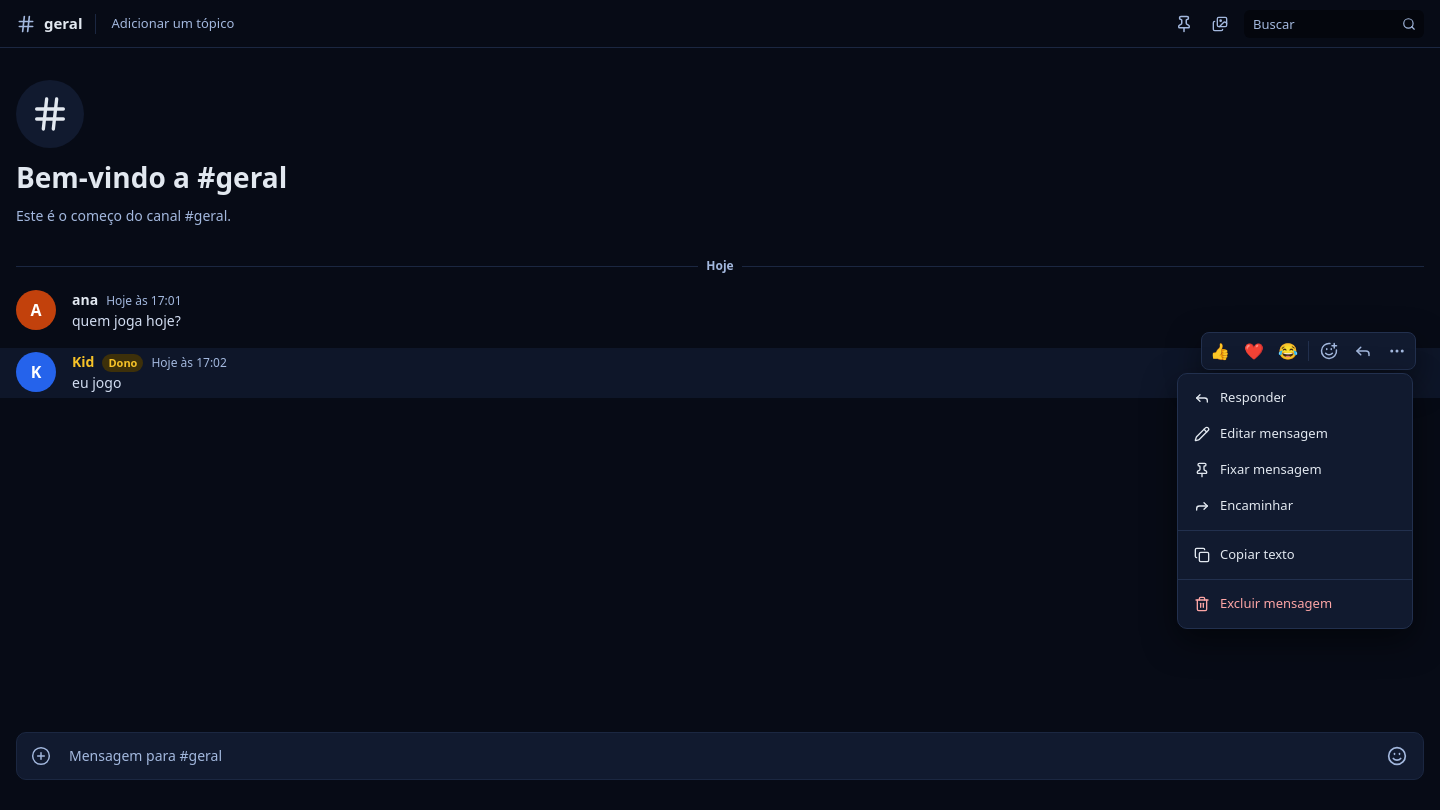
Test: as ações da mensagem › edita a própria no lugar, com Enter, e mostra (editada)
The width and height of the screenshot is (1440, 810).
Earlier steps of the test are not shown.
Click the menu item "Editar mensagem".
click(1261, 433)  # box [1194, 424, 1328, 442]
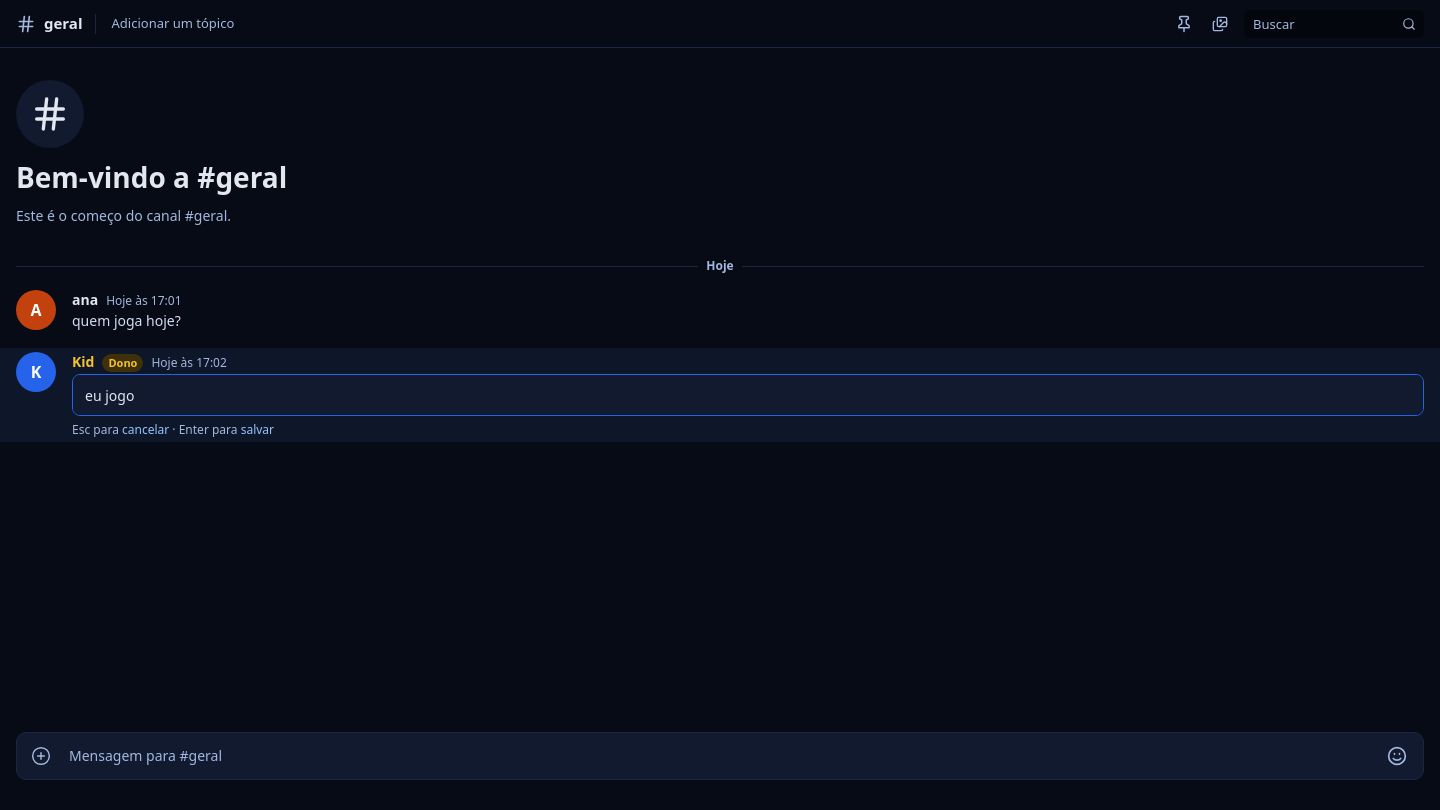
Replace the text in the text box named "Editar mensagem" with "eu jogo às 21h" at (748, 395), box [72, 374, 1424, 416]
Then press Enter
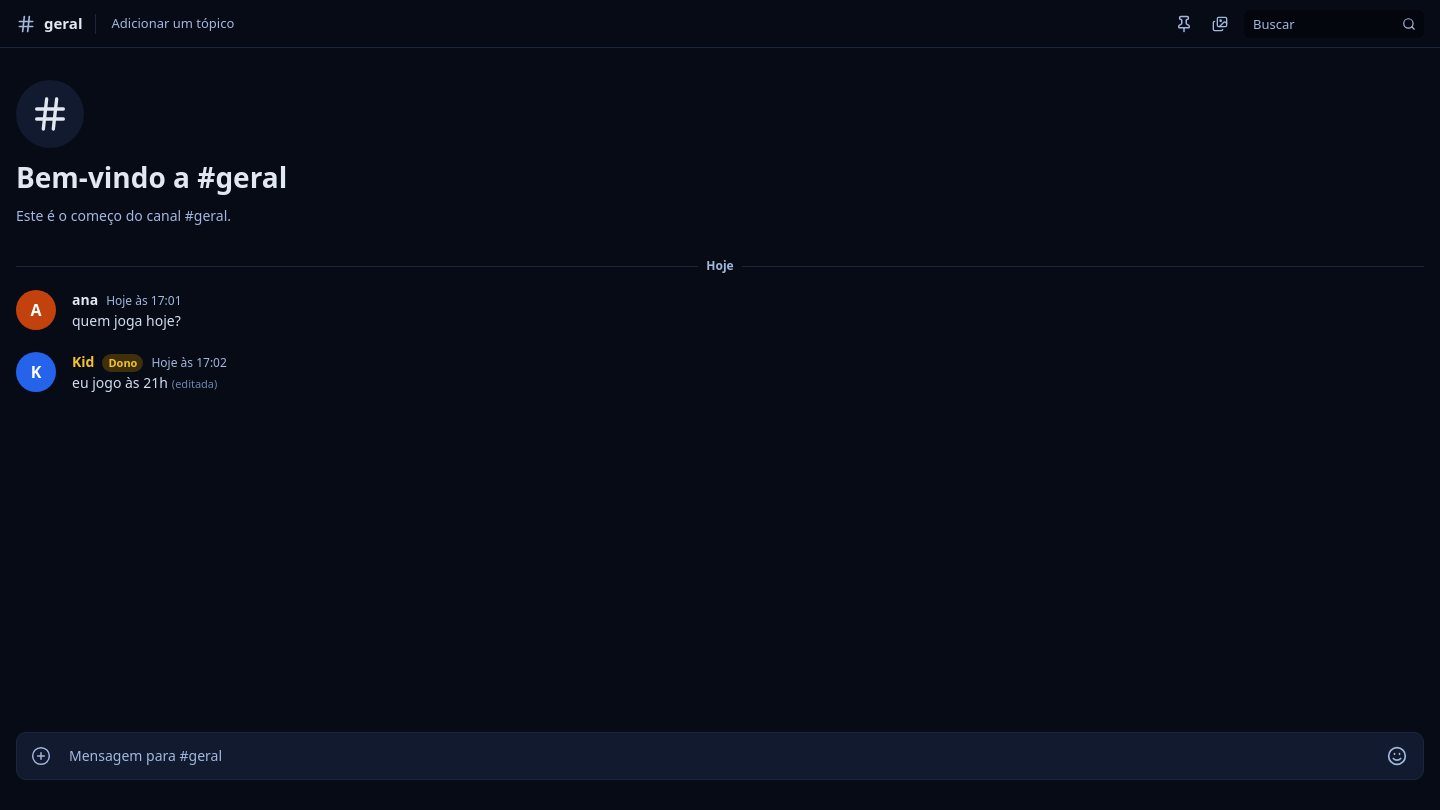
Expected: the menu item "Editar mensagem" is not shown
Now the text "eu jogo às 21h" is shown, box [72, 373, 168, 392]
Now the text "(editada)" is shown, box [172, 376, 217, 391]
